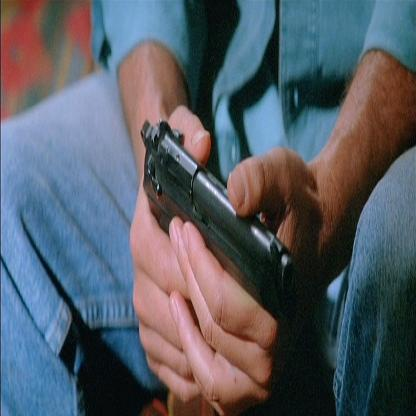gun: (134, 92, 299, 351)
